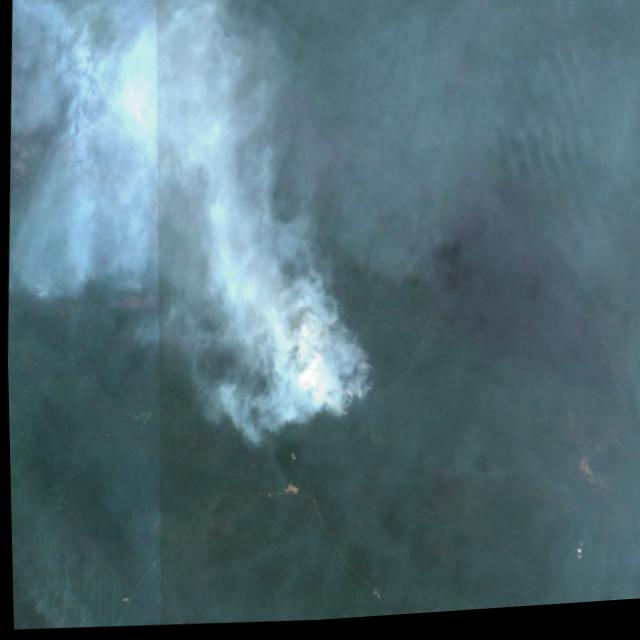fire: (289, 320, 381, 432)
